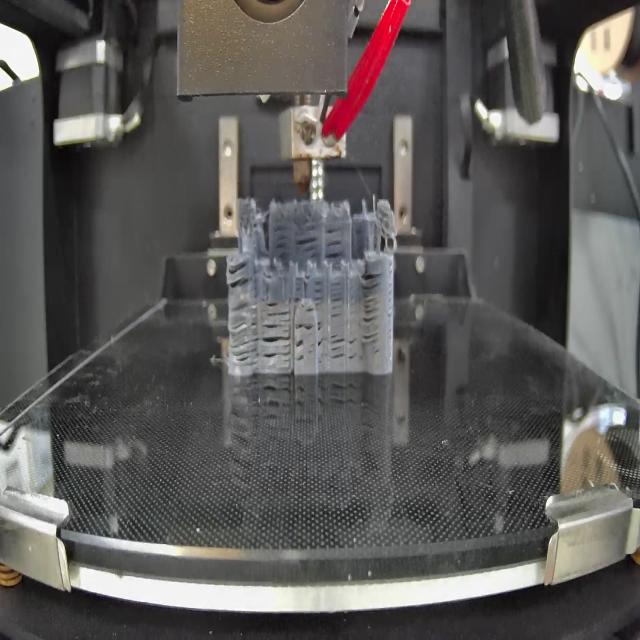cracks: (231, 303, 259, 364), (360, 270, 381, 346), (263, 325, 290, 367), (331, 331, 361, 362), (228, 257, 251, 291), (269, 223, 290, 258), (296, 228, 321, 257), (324, 228, 346, 260), (330, 281, 344, 322), (265, 298, 291, 318), (316, 320, 325, 360), (315, 279, 323, 309), (296, 321, 314, 334), (295, 340, 305, 363), (294, 279, 302, 301), (306, 306, 314, 317)
